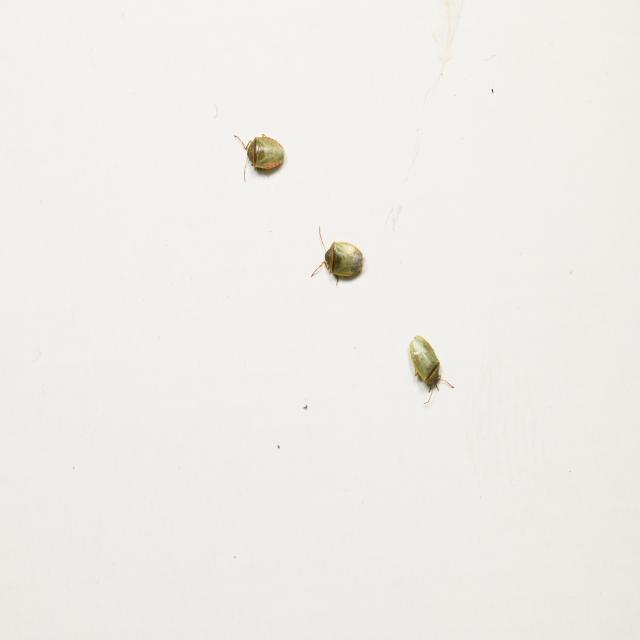stinkbug: (311, 221, 366, 289), (408, 330, 457, 405), (233, 128, 287, 183)
